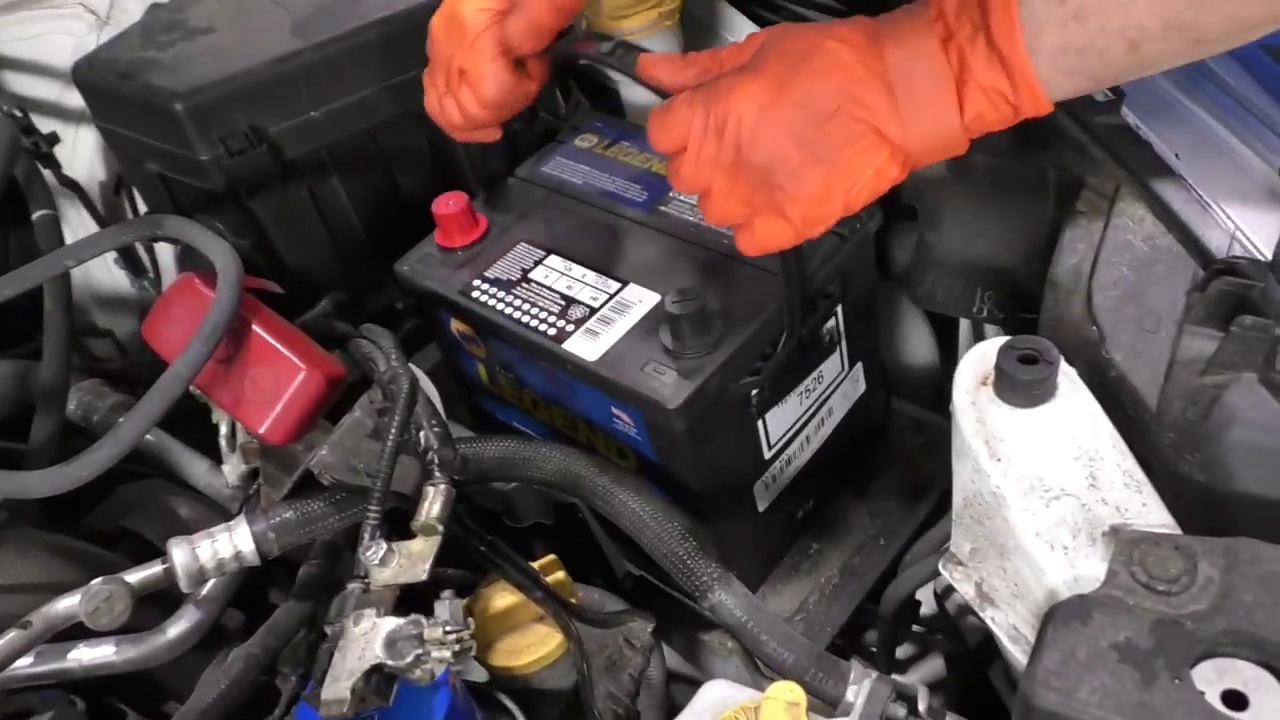battery: (404, 113, 866, 396)
